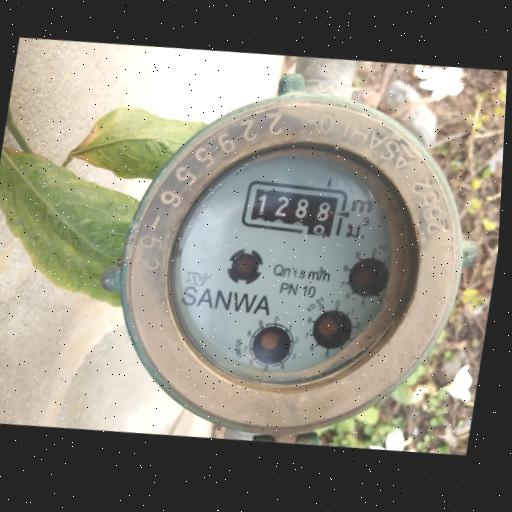1: (251, 187, 271, 222)
2: (269, 189, 294, 225)
8: (309, 195, 335, 239), (290, 193, 313, 226)
border_water_meter_number: (238, 175, 355, 242)
